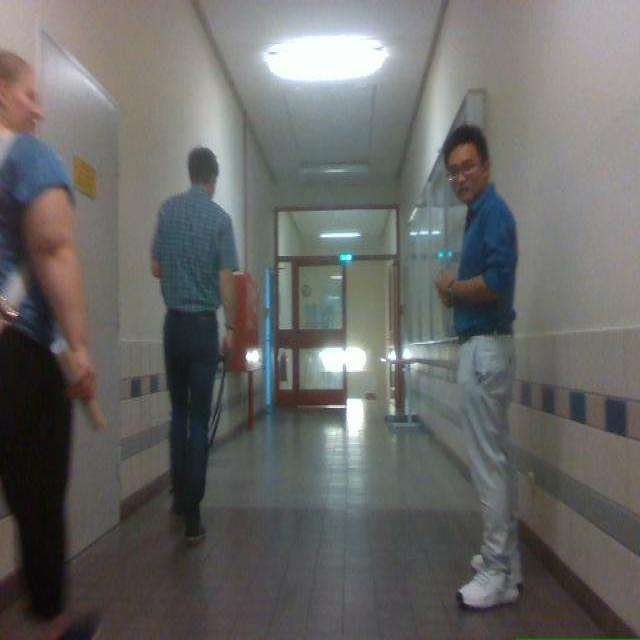humans: (0, 51, 98, 639), (0, 51, 97, 639), (0, 51, 96, 639), (436, 126, 521, 609), (151, 148, 237, 543)
